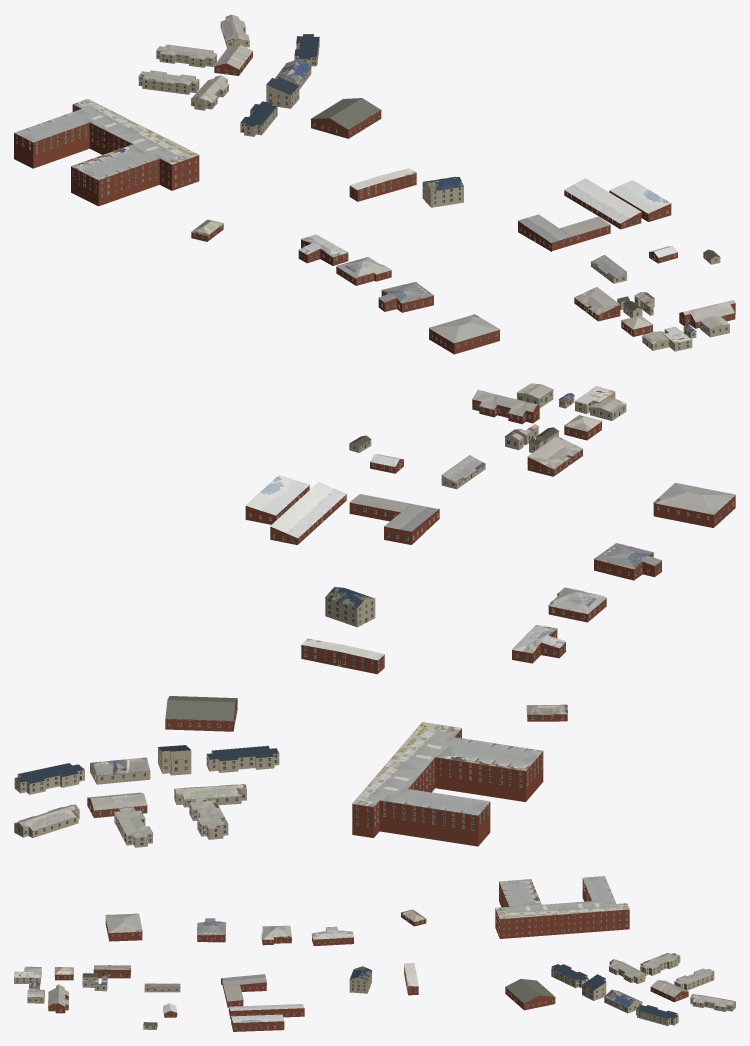
3 renders of one model, top to bottom at view 1: azimuth 30°, elevation 25°; view 2: azimuth 150°, elevation 25°; view 3: azimuth 270°, elevation 25°, orthographic. The views are drawn at different scales.
Visible parts, largest first — view 1: -1_6_599109300_1, -1_6_599109299_0, -1_6_599110305_10; view 2: -1_6_599109300_1, -1_6_599109299_0, -1_6_599110305_10; view 3: -1_6_599109299_0, -1_6_599109300_1, -1_6_599110305_10.
Boxes of the visible parts, x1,y1,x2,y2 form: -1_6_599109300_1: (15, 14, 735, 343); -1_6_599109299_0: (14, 23, 735, 354); -1_6_599110305_10: (138, 19, 729, 351); -1_6_599109300_1: (14, 383, 735, 837); -1_6_599109299_0: (15, 386, 735, 846); -1_6_599110305_10: (14, 390, 626, 847); -1_6_599109299_0: (14, 876, 734, 1031); -1_6_599109300_1: (14, 876, 735, 1022); -1_6_599110305_10: (14, 956, 735, 1029).
Bounding box in the file's own units: 260 × 23.87 × 517.
12 materials, 1 textured.
